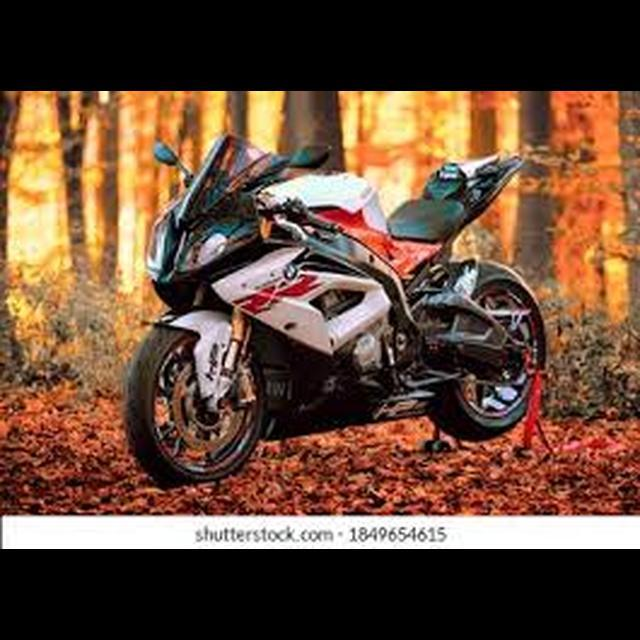motorcycle: (119, 125, 550, 490)
